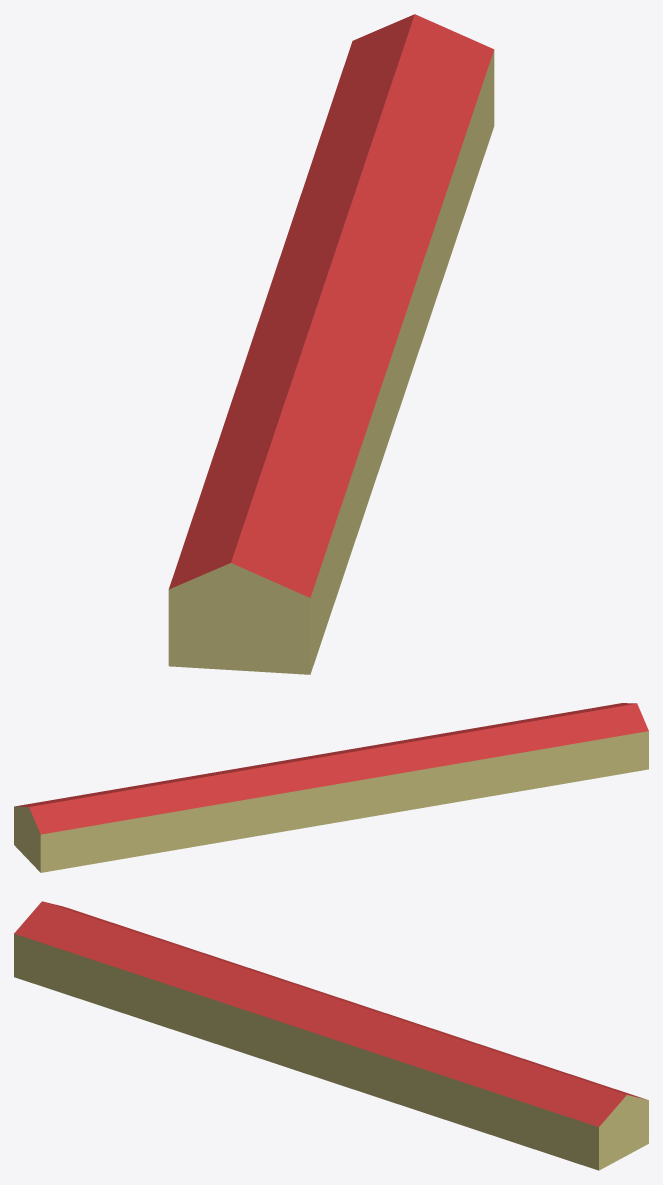
The picture shows the model from 3 angles, top to bottom: view 1: azimuth 30°, elevation 25°; view 2: azimuth 150°, elevation 25°; view 3: azimuth 270°, elevation 25°; orthographic projection. The views are drawn at different scales.
Size of the model in its own units: 52.8 by 64.24 by 6.78.
